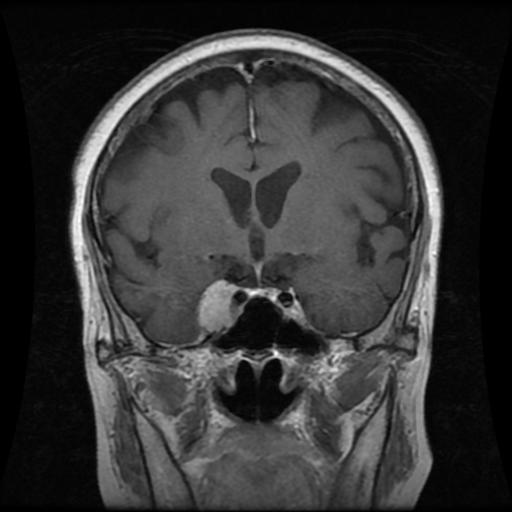Menigiomia_tumour: (198, 279, 236, 330)
